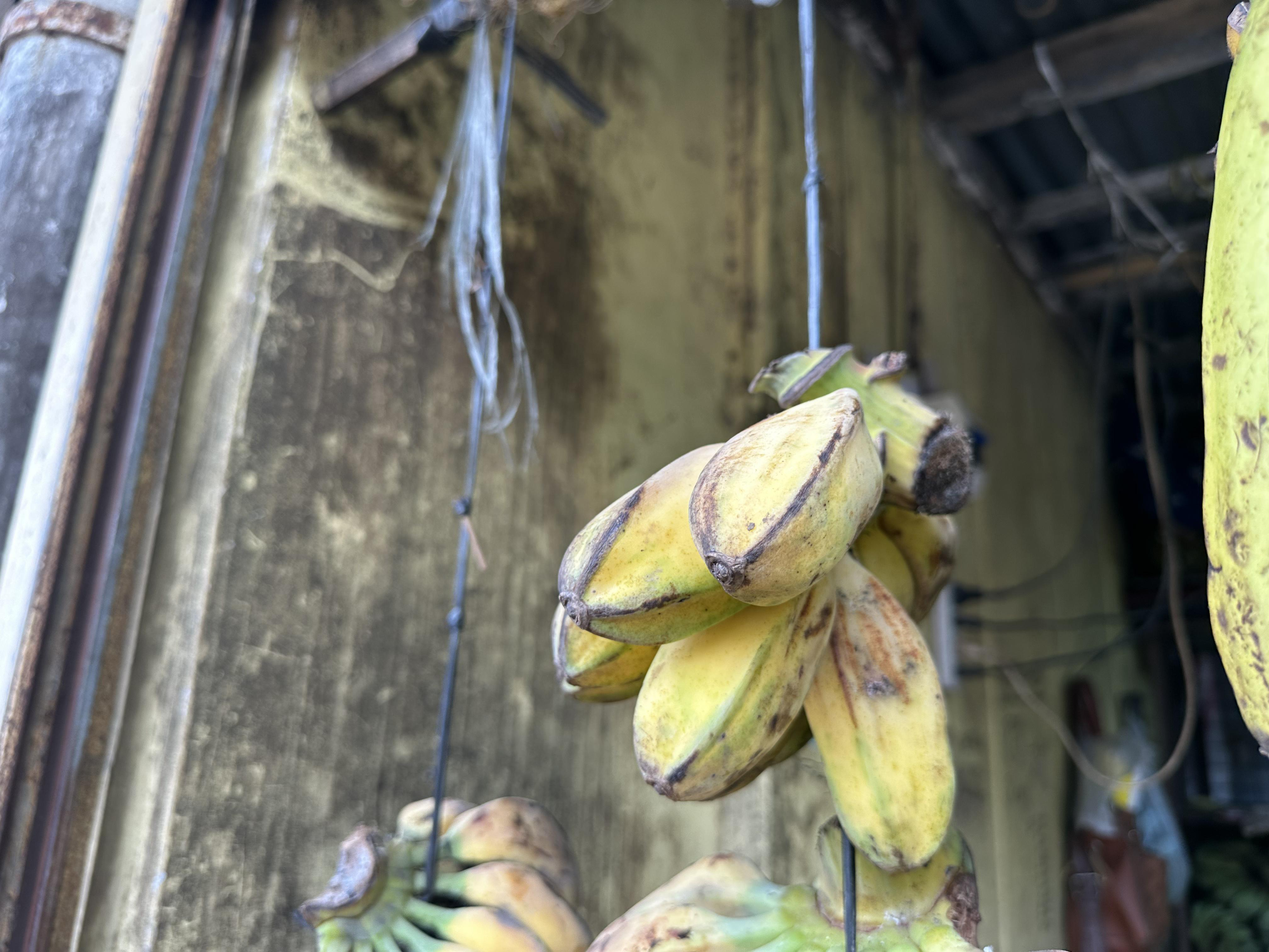ripe: (415, 797, 593, 952)
underripe: (552, 390, 955, 869)
